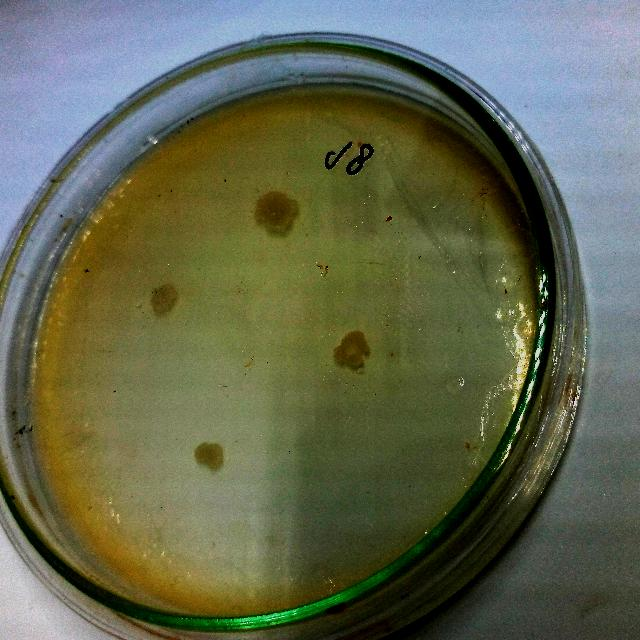colony: (247, 186, 307, 246), (330, 328, 380, 374), (189, 438, 233, 478), (146, 279, 182, 321)
